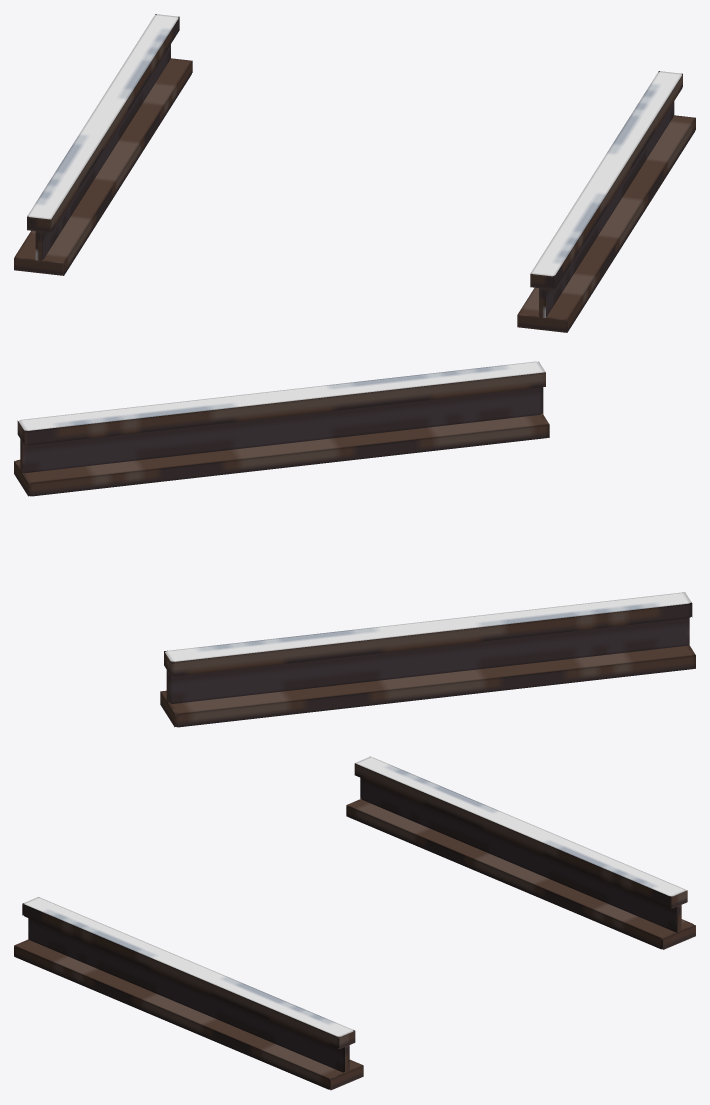
File: diag_2.obj
3 views of the same model, one above another, from view 1: azimuth 30°, elevation 25°; view 2: azimuth 150°, elevation 25°; view 3: azimuth 270°, elevation 25° (orthographic). The views are drawn at different scales.
Visible parts, largest first — view 1: cube; view 2: cube; view 3: cube.
Boxes of the visible parts, x1,y1,x2,y2 form: cube: (14, 14, 695, 332); cube: (14, 361, 695, 727); cube: (14, 756, 695, 1090).
Size of the model in its own units: 2.19 by 0.1754 by 2.19.
